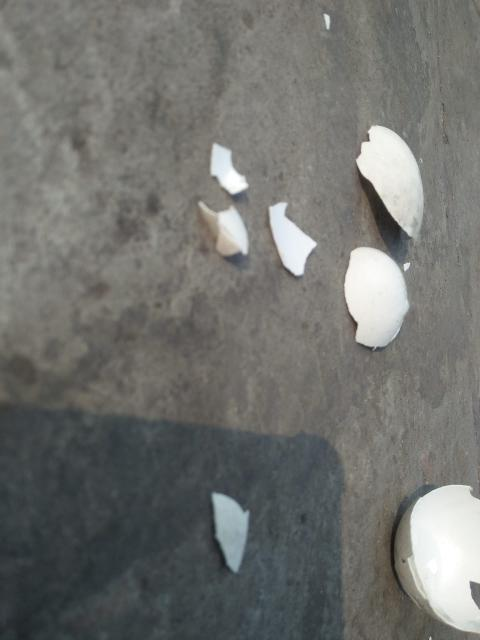Roto: (397, 477, 480, 640), (355, 124, 424, 244), (343, 245, 410, 350), (267, 200, 317, 277), (210, 490, 250, 573), (196, 199, 249, 259), (208, 142, 249, 196)
